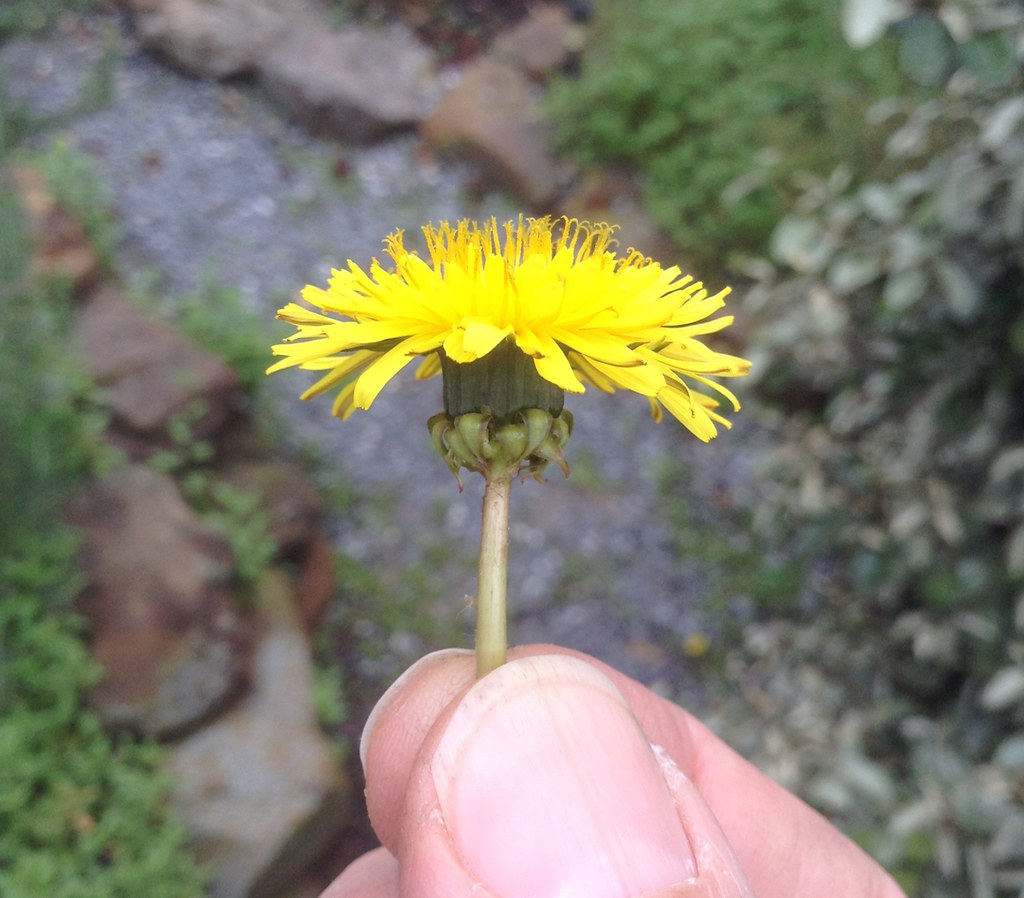dandelion: (254, 183, 775, 441)
